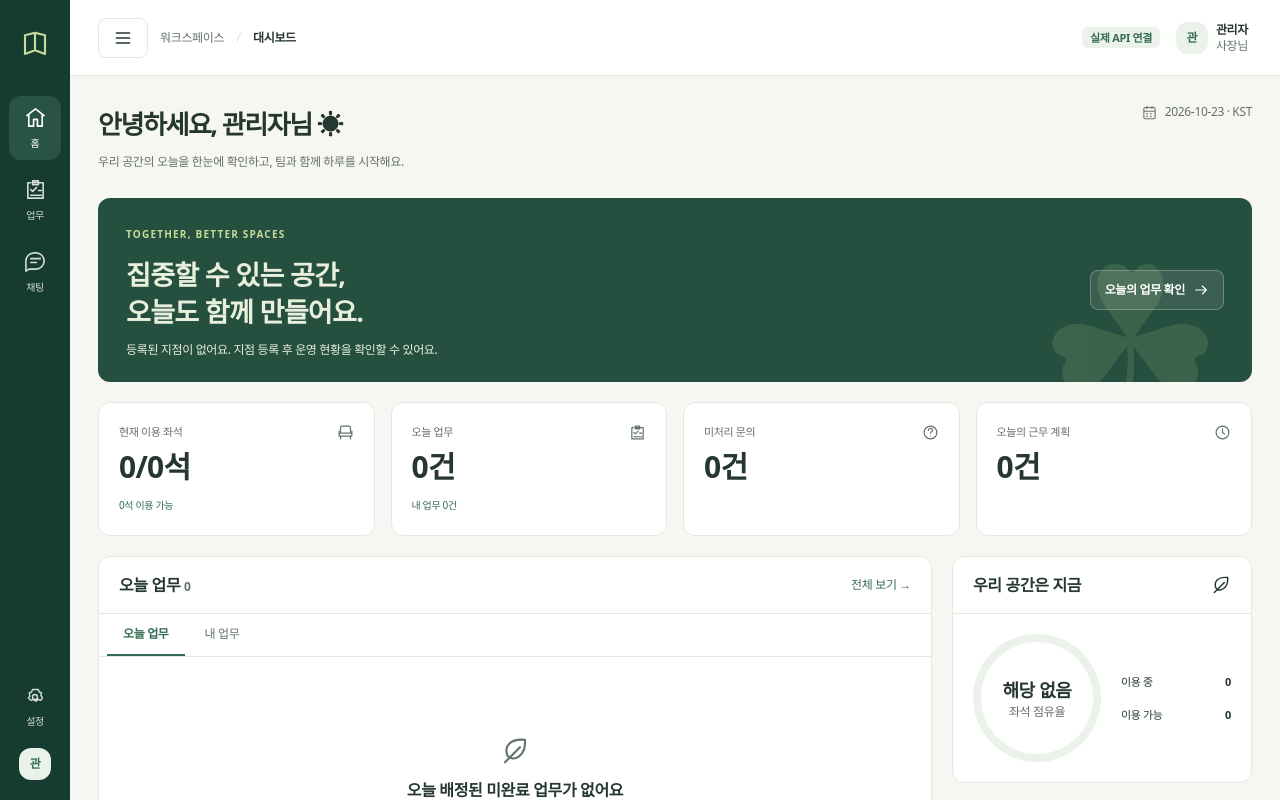
renders empty summary cards without loading any chat data
Check: the text "해당 없음" is shown, box [1002, 676, 1072, 704]
Check: the heading "오늘 배정된 미완료 업무가 없어요" is shown, box [407, 778, 623, 799]
Click the button named "메뉴 열기".
click(123, 38)  # box [98, 18, 148, 58]
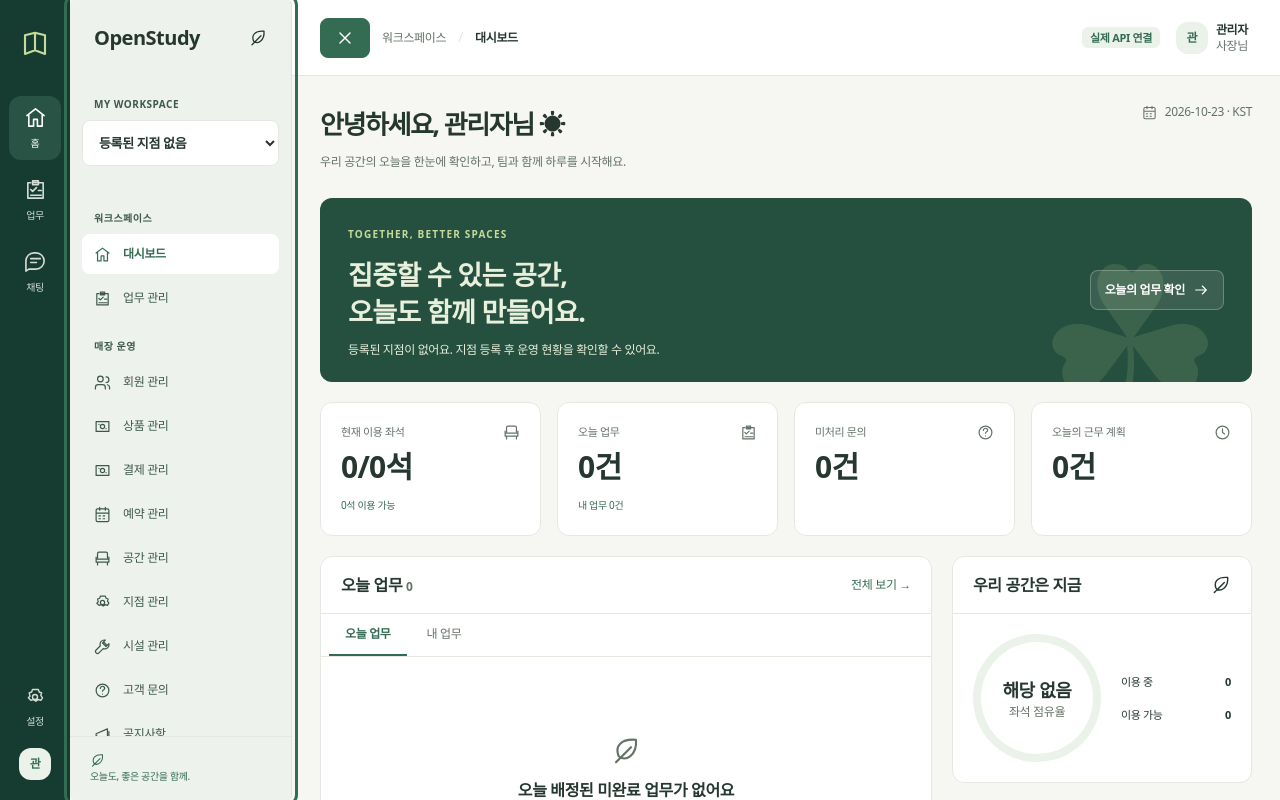
Check: the dropdown named "현재 지점" is disabled, box [82, 120, 279, 166]
